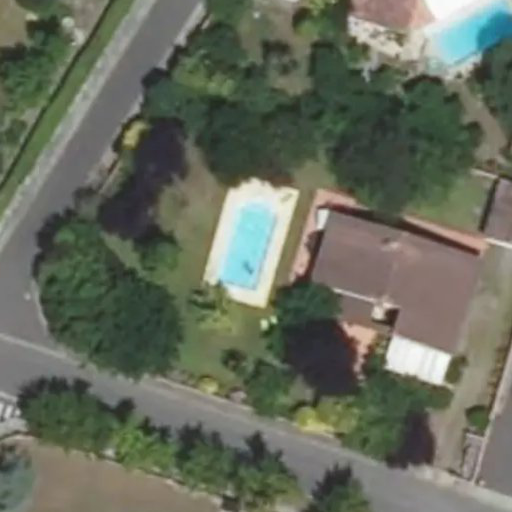pool: (194, 215, 330, 265)
